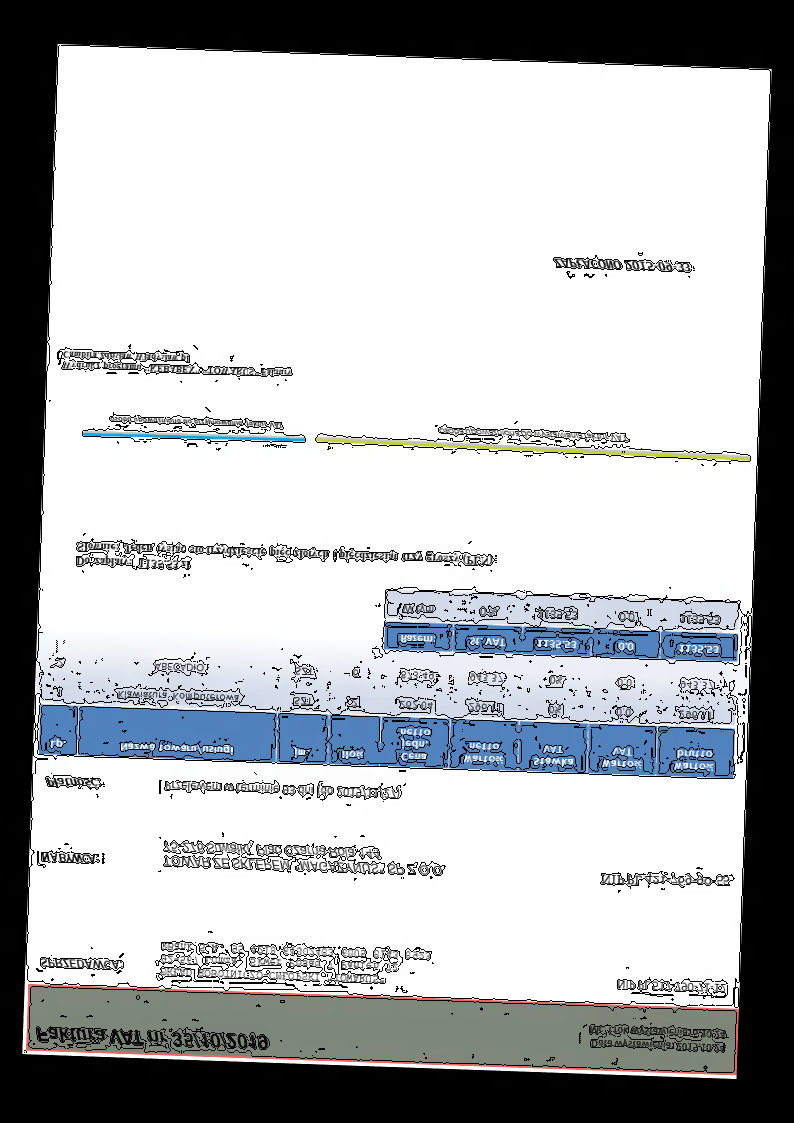Table: (37, 641, 738, 780), (382, 589, 741, 664)
TextBox: (73, 537, 496, 584), (157, 940, 432, 988), (160, 838, 451, 879), (59, 348, 296, 380), (33, 1024, 271, 1053), (163, 779, 400, 802), (586, 1023, 728, 1054), (436, 426, 632, 445), (599, 869, 732, 892), (107, 414, 285, 431), (551, 256, 692, 276), (614, 977, 728, 997), (38, 955, 125, 973), (39, 849, 100, 867), (44, 775, 103, 791)
